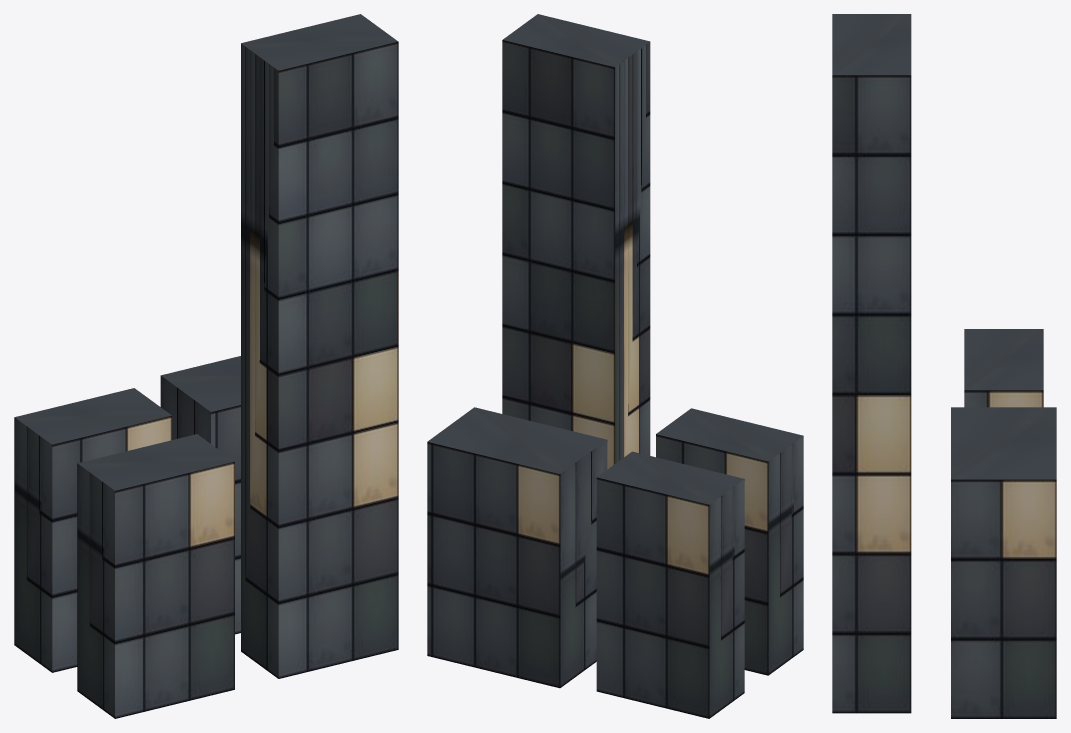
The model's file is block_26.obj.
The picture shows the model from 3 angles, left to right: view 1: azimuth 30°, elevation 25°; view 2: azimuth 150°, elevation 25°; view 3: azimuth 270°, elevation 25°; orthographic projection. The views are drawn at different scales.
Visible parts, largest first — view 1: b3, b1, b0, b2; view 2: b3, b2, b0, b1; view 3: b3, b2, b0.
Boxes of the visible parts, x1,y1,x2,y2 form: b3: (241,14,398,678); b1: (77,434,234,718); b0: (14,388,171,672); b2: (160,356,240,634); b3: (502,14,650,469); b2: (427,407,607,688); b0: (596,451,744,718); b1: (656,408,803,675); b3: (832,14,911,713); b2: (951,407,1056,718); b0: (964,329,1043,407).
Bounding box in the file's own units: 4.05 × 8 × 2.55.
